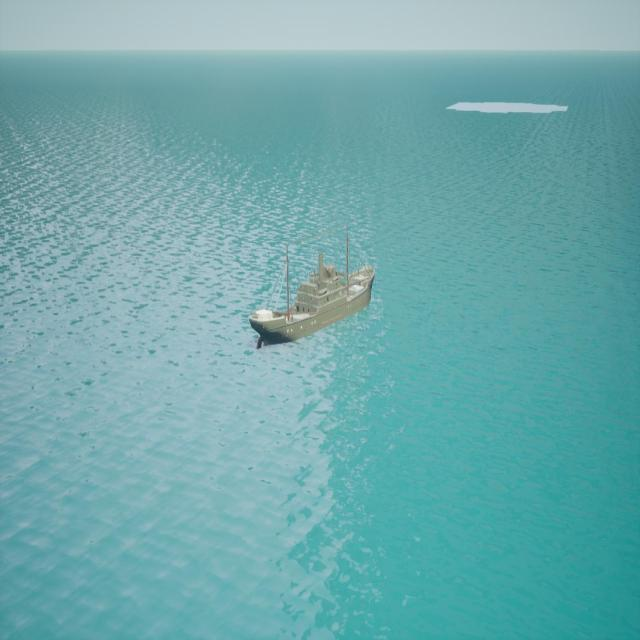fishing ship: (252, 237, 374, 350)
